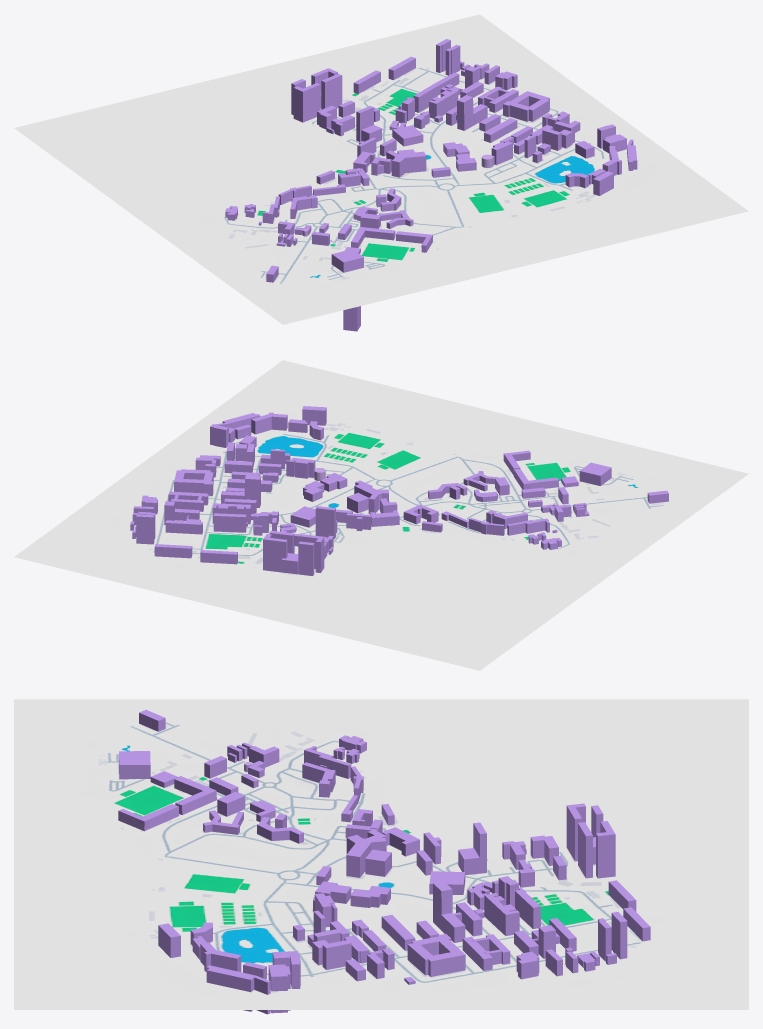
Rendered from map.glb.
3 views of the same model, one above another, from view 1: azimuth 30°, elevation 25°; view 2: azimuth 150°, elevation 25°; view 3: azimuth 270°, elevation 25° (orthographic). The views are drawn at different scales.
Parts seen in each view (by area): view 1: Plane.001, Plane, Cube.004, Cube.108, Cube.087; view 2: Plane, Plane.001, Cube.002, Cube.017, Cube.010, Cube.087, Cube.001; view 3: Plane, Plane.001, Cube.087, Cube.092, Cube.055, Cube.004, Cube.046, Cube.017, Cube.018, Cube.021, Cube.035, Cube.052 (+16 smaller).
Boxes of the visible parts, x1,y1,x2,y2 form: Plane.001: (82, 14, 748, 324); Plane: (14, 14, 743, 324); Cube.004: (321, 74, 342, 109); Cube.108: (300, 83, 320, 121); Cube.087: (331, 249, 363, 272); Plane: (14, 360, 748, 670); Plane.001: (14, 360, 748, 670); Cube.002: (263, 537, 287, 572); Cube.017: (213, 513, 246, 532); Cube.010: (315, 506, 335, 539); Cube.087: (579, 462, 611, 485); Cube.001: (298, 541, 314, 575); Plane: (14, 699, 748, 1009); Plane.001: (14, 699, 748, 1009); Cube.087: (119, 751, 150, 779); Cube.092: (206, 966, 255, 1011); Cube.055: (346, 838, 372, 877); Cube.004: (578, 822, 592, 878); Cube.046: (322, 940, 351, 969); Cube.017: (515, 889, 540, 928); Cube.018: (484, 895, 510, 935); Cube.021: (433, 907, 465, 942); Cube.035: (381, 915, 415, 950); Cube.052: (429, 871, 465, 894).
Bounding box in the file's own units: 20.01 × 4.28 × 20.01.
3 materials, 1 textured.
